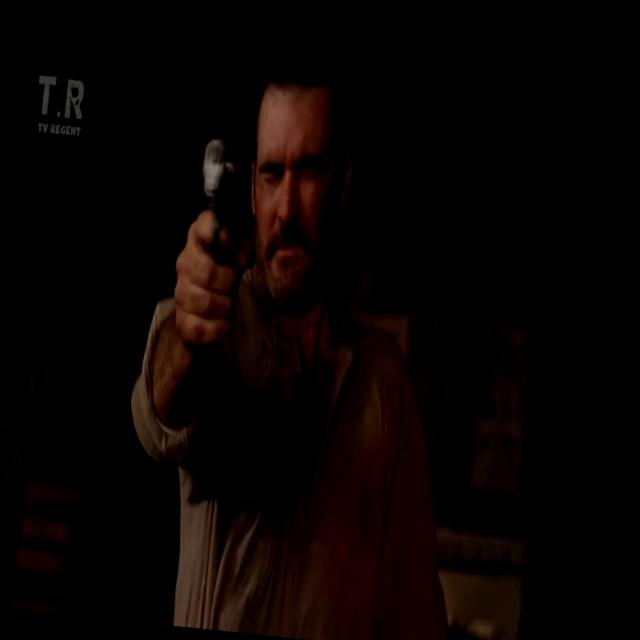handgun: (185, 133, 264, 307)
